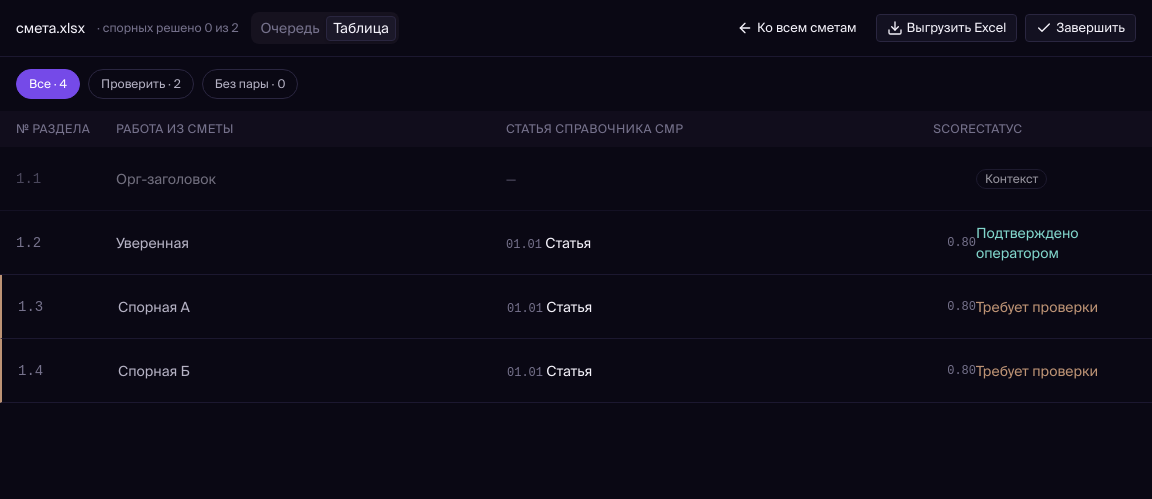
Scenario: грид ↔ очередь › возврат в очередь табом после клика из грида — поток, а не старая карточка
Click the text "Уверенная" at point(152, 242), box [116, 234, 189, 250]
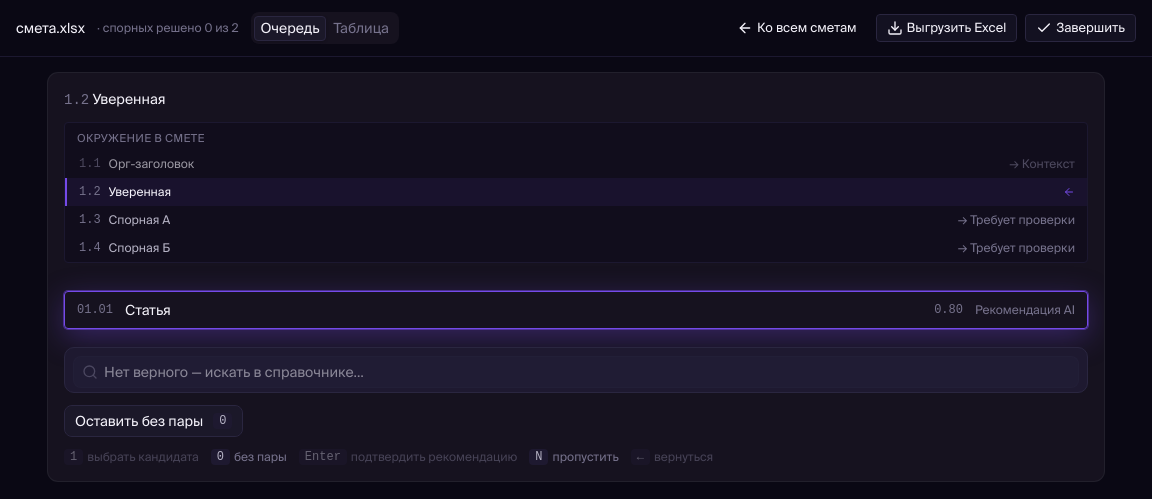
Click the tab "Таблица" at point(361, 28), box [326, 16, 396, 40]
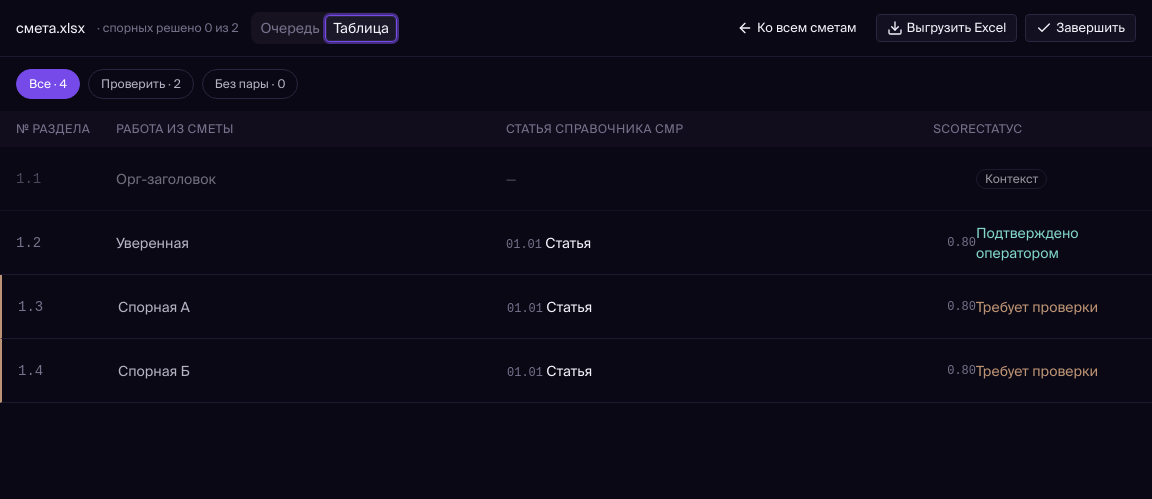
Click the tab "Очередь" at point(290, 28), box [254, 16, 326, 40]
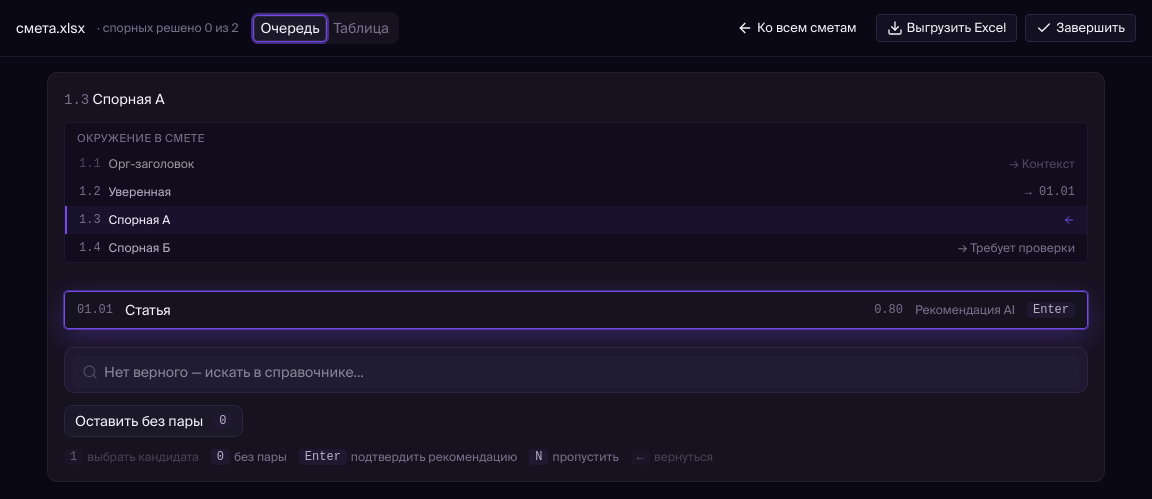
Expected: the 1st text "Спорная А" is shown, [92, 91, 164, 107]
